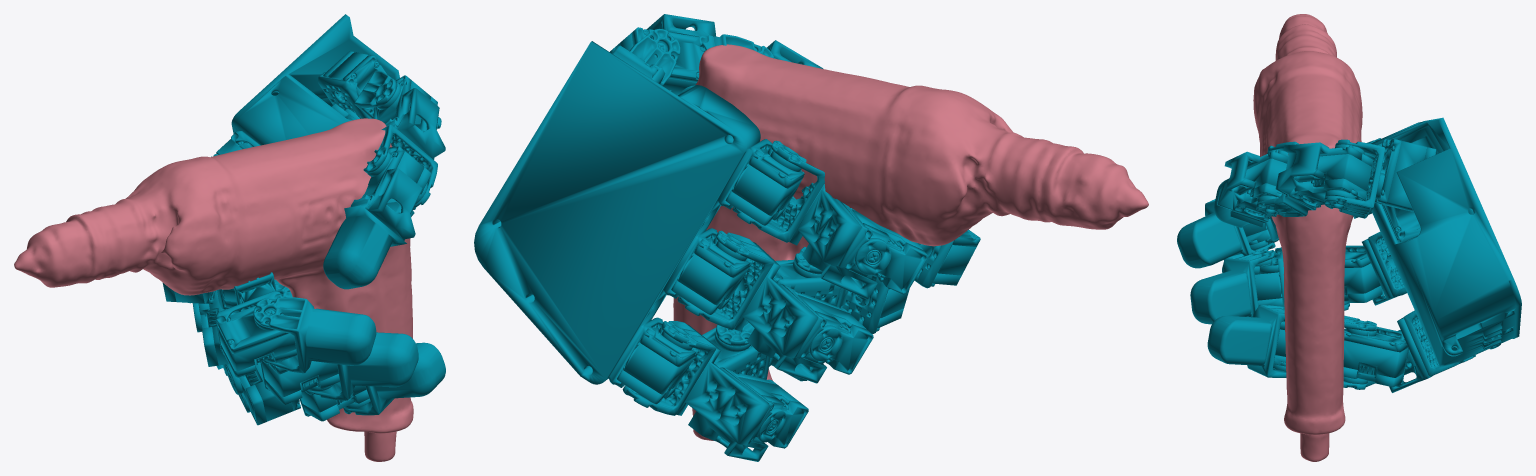
3 renders of one model, left to right at view 1: azimuth 30°, elevation 25°; view 2: azimuth 150°, elevation 25°; view 3: azimuth 270°, elevation 25°, orthographic. The views are drawn at different scales.
Parts seen in each view (by area): view 1: world; view 2: world; view 3: world.
Part boxes in pixels (x1=…): world: x1=14, y1=14, x2=445, y2=461; world: x1=474, y1=14, x2=1148, y2=461; world: x1=1177, y1=14, x2=1521, y2=461.
Bounding box in the file's own units: 0.2757 × 0.2061 × 0.1812.
